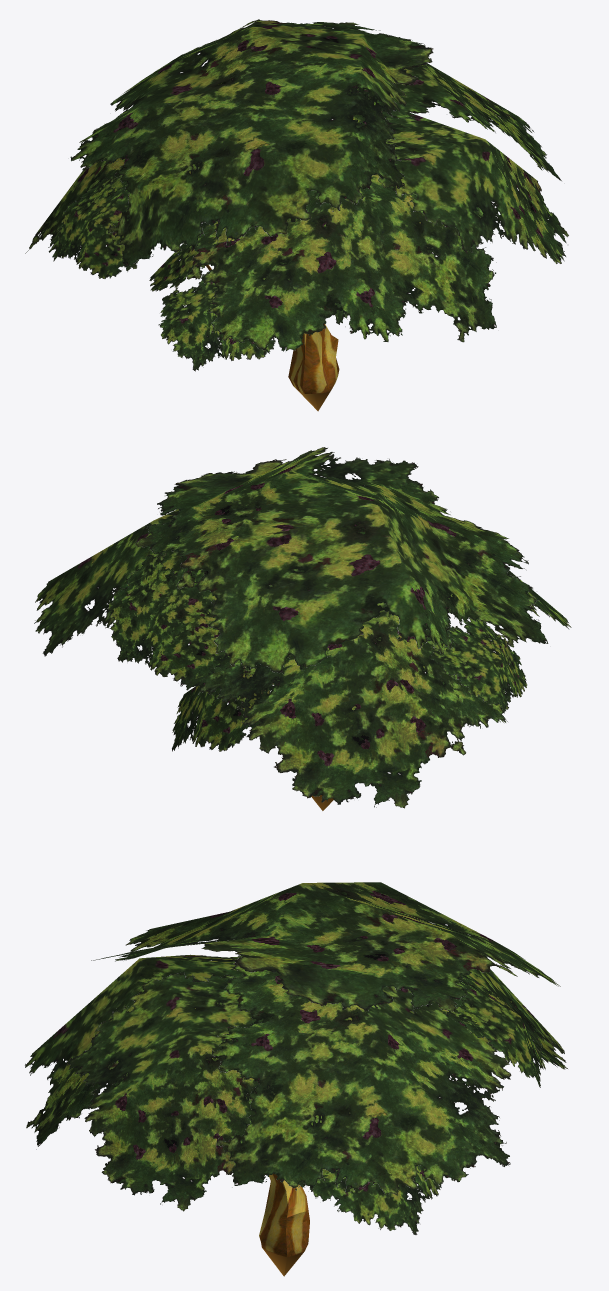
The model's file is tree200m.dae.
3 views of the same model, one above another, from view 1: azimuth 30°, elevation 25°; view 2: azimuth 150°, elevation 25°; view 3: azimuth 270°, elevation 25° (orthographic). The views are drawn at different scales.
Visible parts, largest first — view 1: Box01, Box02; view 2: Box01; view 3: Box01, Box02.
Part boxes in pixels (x1,y1,x2,y2): Box01: (25,19,568,371); Box02: (206,264,339,411); Box01: (34,447,571,808); Box01: (25,882,567,1234); Box02: (259,1174,309,1276).
Bounding box in the file's own units: 330 × 217 × 317.
2 materials, 2 textured.
